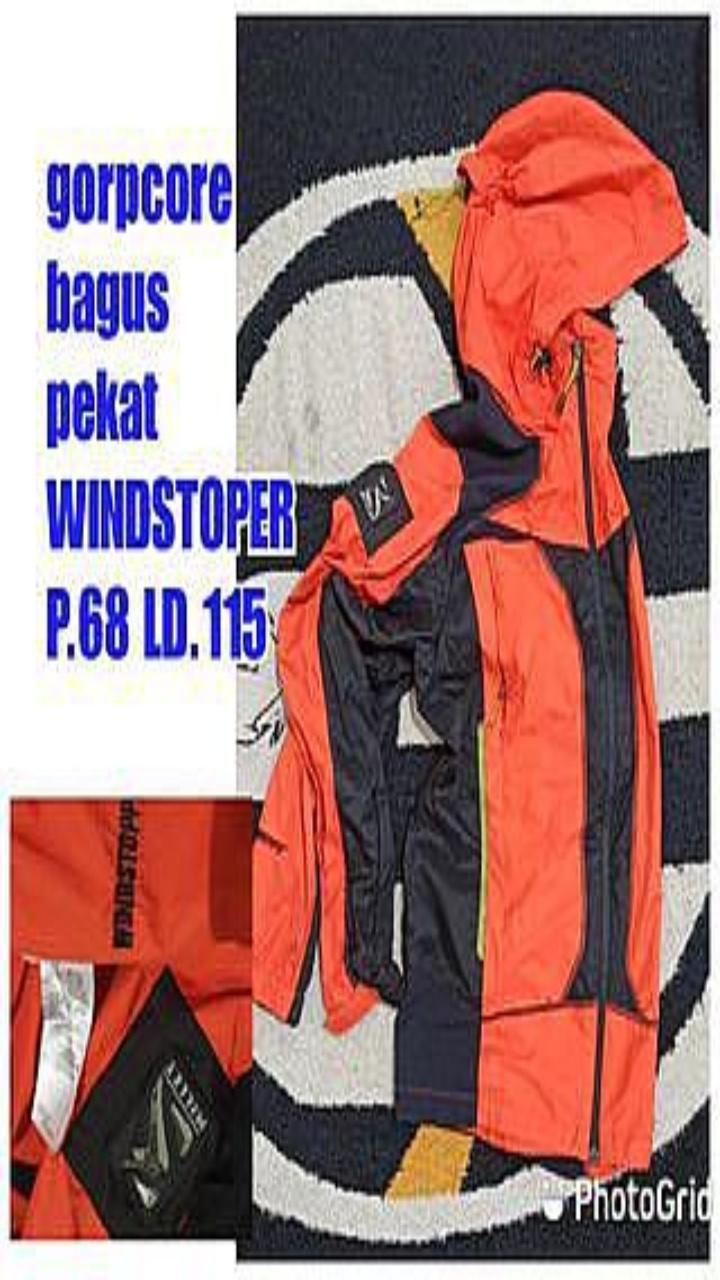Sports_Jacket: (254, 92, 685, 1172), (12, 799, 250, 1238)
